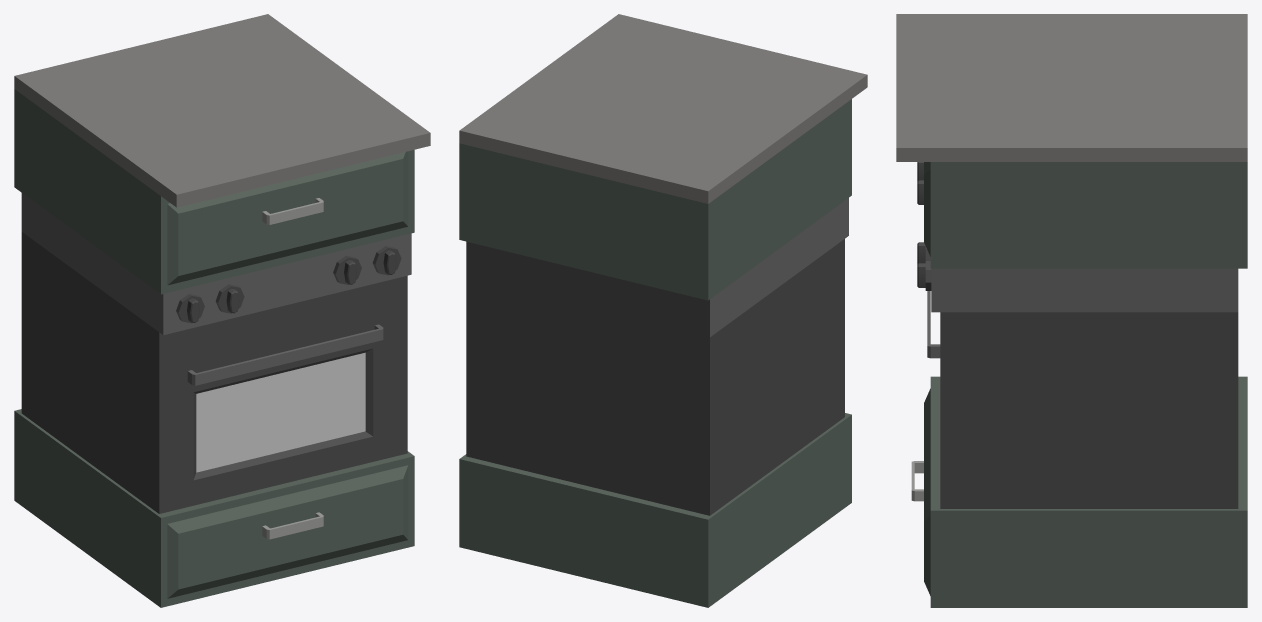
The model's file is Kitchen_Oven.glb.
The picture shows the model from 3 angles, left to right: view 1: azimuth 30°, elevation 25°; view 2: azimuth 150°, elevation 25°; view 3: azimuth 270°, elevation 25°; orthographic projection. The views are drawn at different scales.
Parts seen in each view (by area): view 1: Kitchen_Oven; view 2: Kitchen_Oven; view 3: Kitchen_Oven.
Boxes of the visible parts, x1,y1,x2,y2 form: Kitchen_Oven: [14, 14, 430, 607]; Kitchen_Oven: [459, 14, 867, 607]; Kitchen_Oven: [896, 14, 1247, 607].
Bounding box in the file's own units: 0.4943 × 0.7908 × 0.5479.
Materials: 6 (6 with a texture image).
